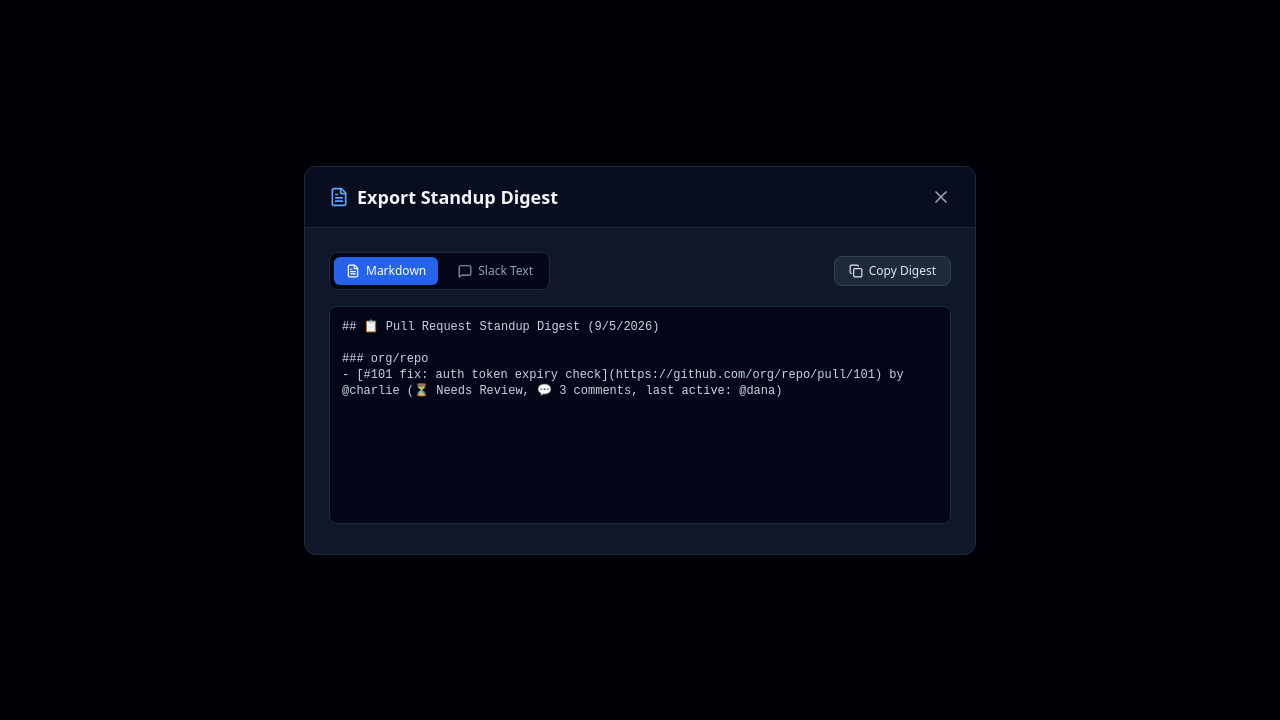
Scenario: ExportModal › copies content to clipboard and shows temporary copied state
Click the button "Copy Digest". click: (892, 270)
box: [834, 256, 951, 286]
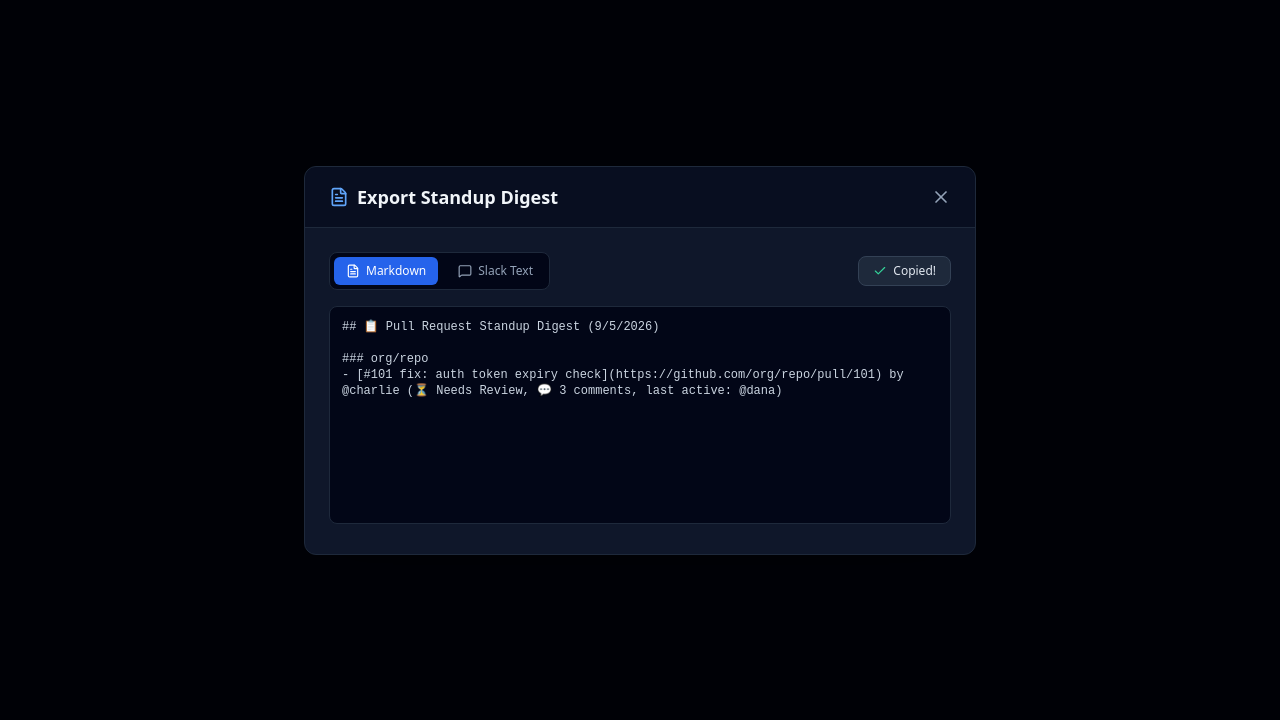
Check: the button "Copied!" is shown, box [858, 256, 951, 286]
